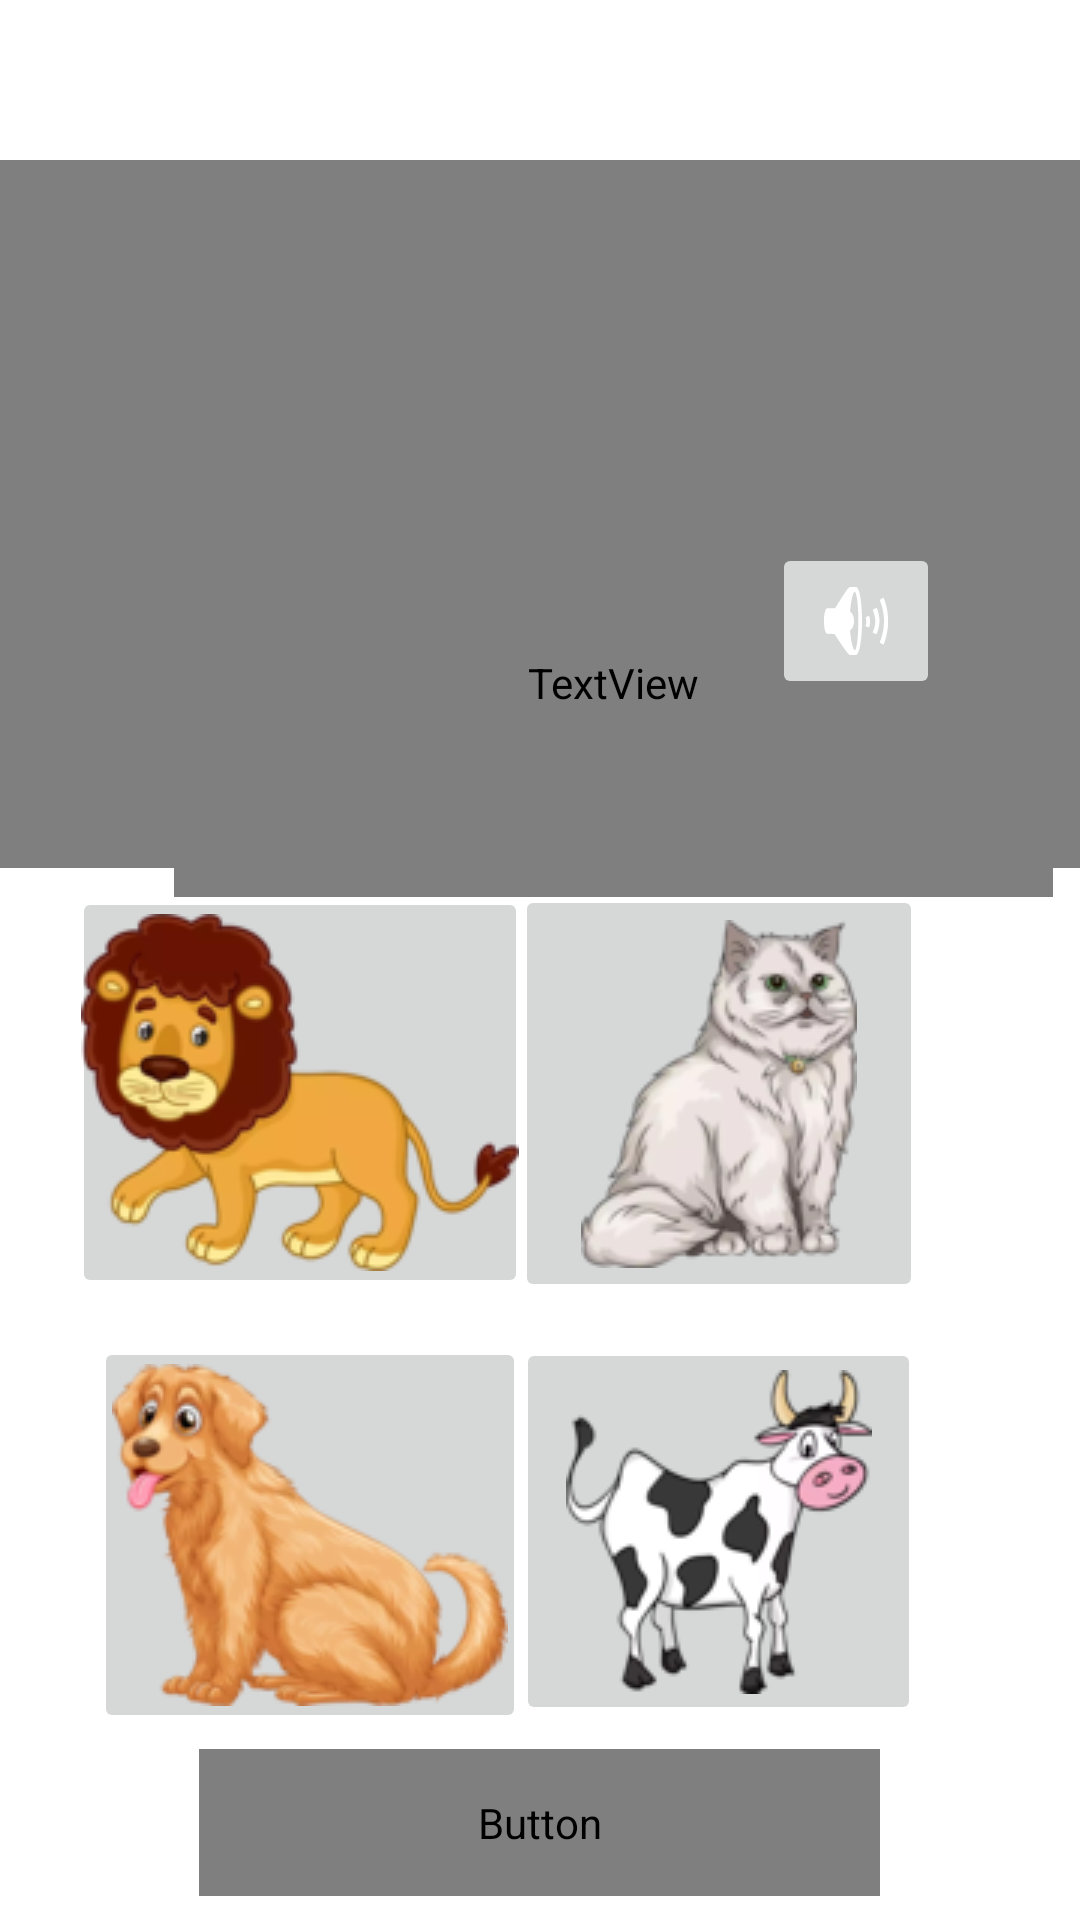

Icon click points for this 1080×1920 phone screenshot, format (x=x, y=y):
lock silent mode off: (x=856, y=621)
